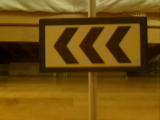left: (40, 19, 147, 71)
